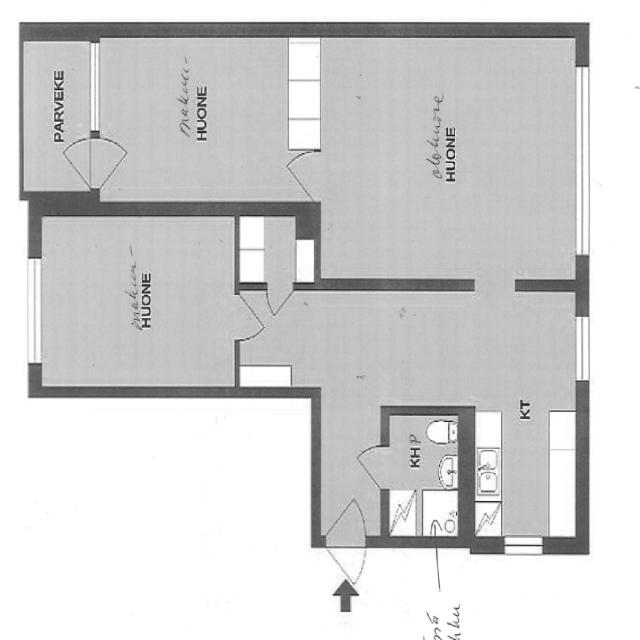door: (55, 138, 133, 190), (322, 497, 368, 584), (280, 145, 320, 198), (261, 278, 300, 320), (228, 290, 261, 337), (358, 440, 389, 488)
window: (572, 53, 598, 265), (22, 251, 44, 371), (86, 36, 108, 141), (489, 534, 556, 560), (574, 308, 594, 384)
zone: (314, 45, 577, 286), (89, 36, 313, 210), (34, 207, 238, 386), (466, 401, 582, 548), (386, 414, 463, 541)
